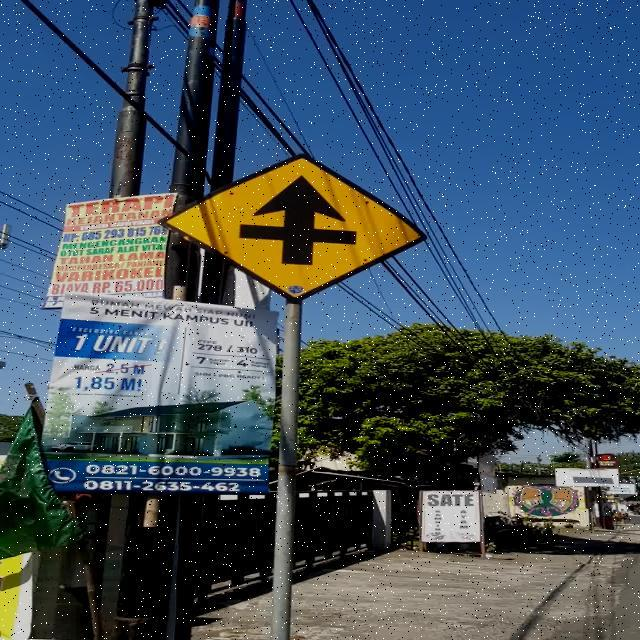Persimpangan 3 Prioritas: (158, 153, 428, 303)
